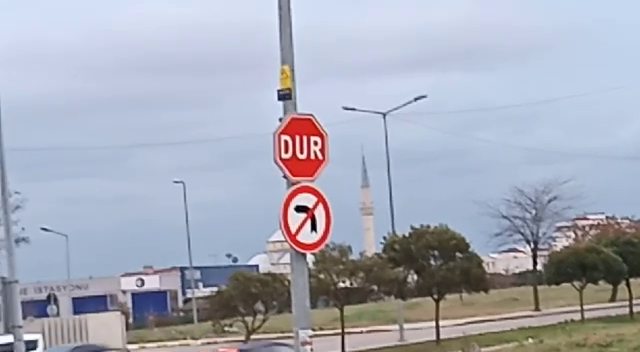no_left: (277, 182, 334, 256)
stop: (270, 111, 331, 186)
